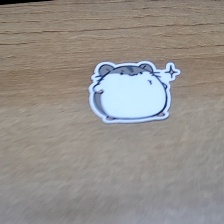mouse: (90, 59, 181, 125)
